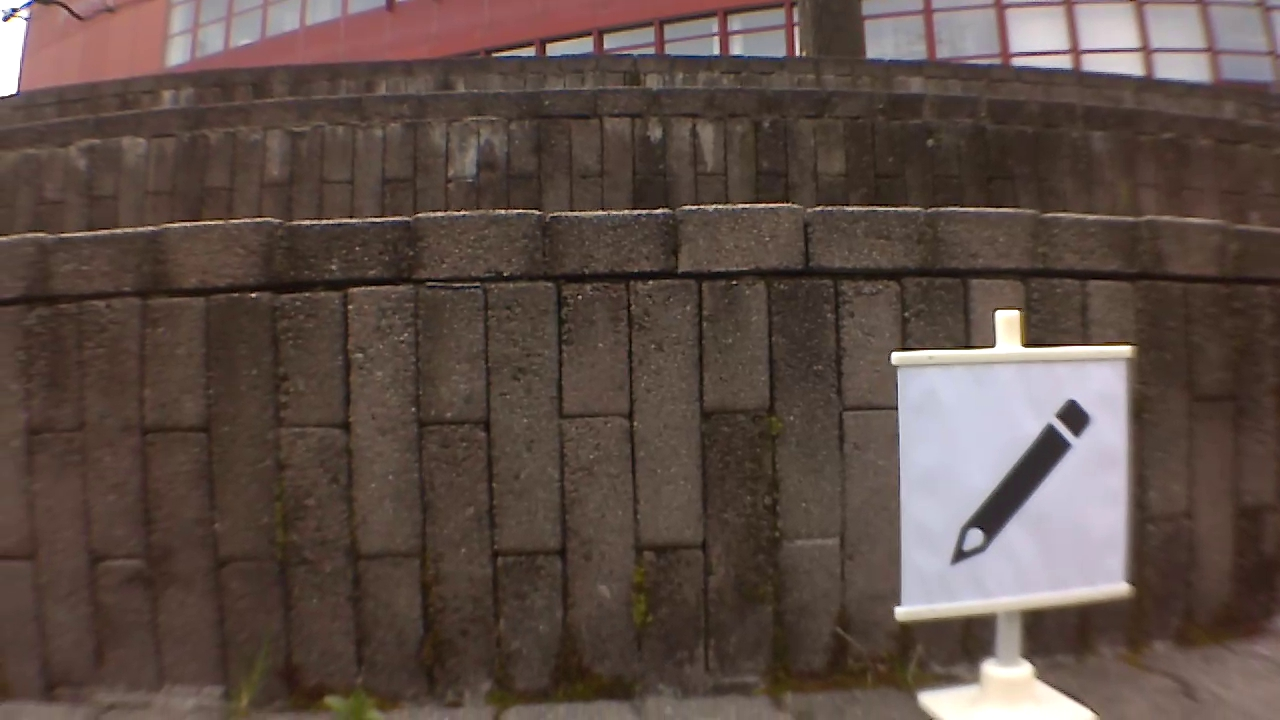pencil: (951, 394, 1101, 568)
